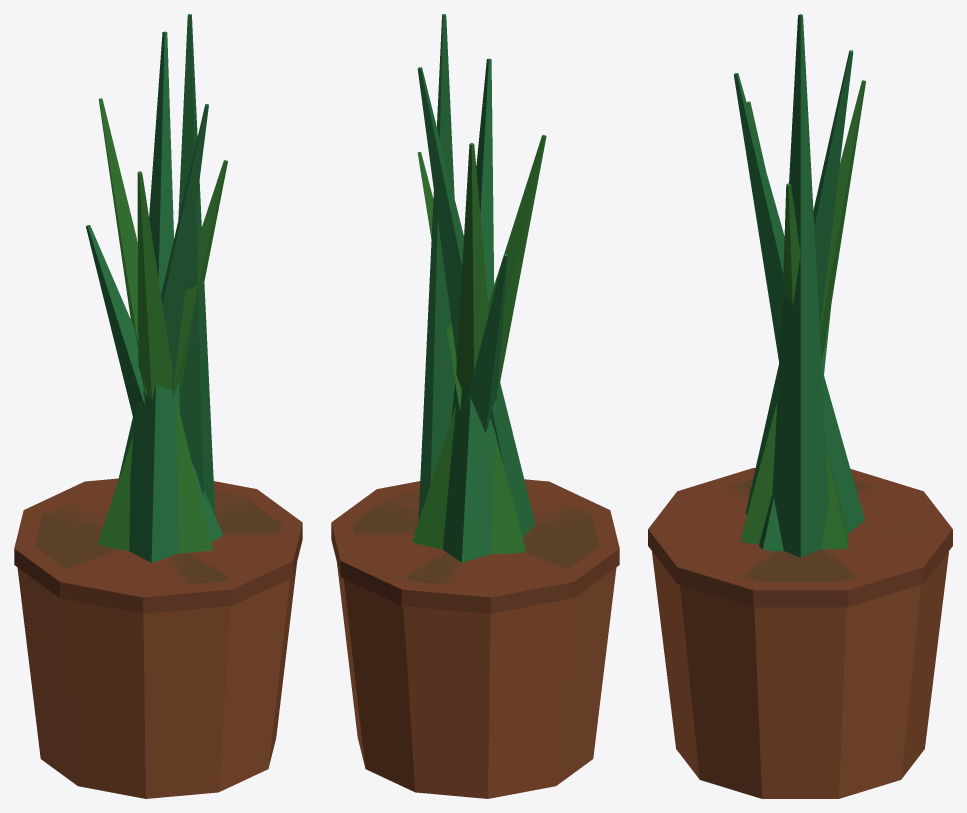
Rendered from prop_potted-plant.3400637693b3.glb.
The picture shows the model from 3 angles, left to right: view 1: azimuth 30°, elevation 25°; view 2: azimuth 150°, elevation 25°; view 3: azimuth 270°, elevation 25°; orthographic projection. The views are drawn at different scales.
Parts seen in each view (by area): view 1: body; view 2: body; view 3: body.
Boxes of the visible parts, box(x1,y1,x2,y2) form: body: box(14, 14, 302, 798); body: box(331, 14, 619, 798); body: box(648, 14, 952, 798).
Bounding box in the file's own units: 0.466 × 1.33 × 0.49.
